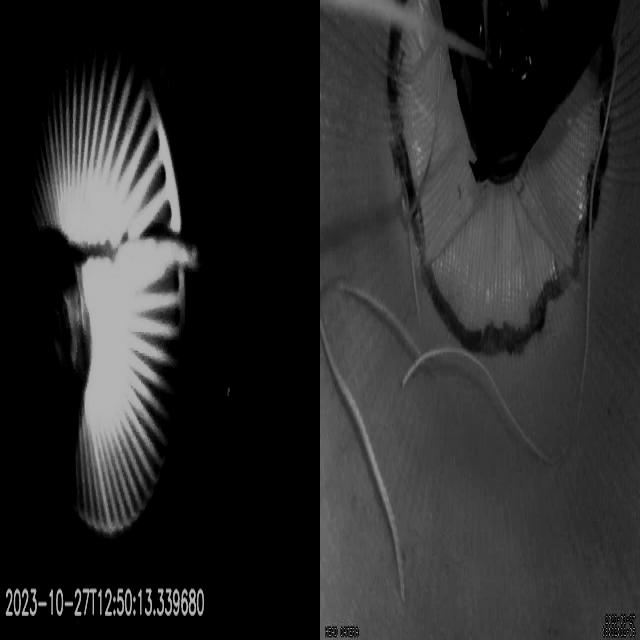red-circle: (387, 0, 615, 359)
